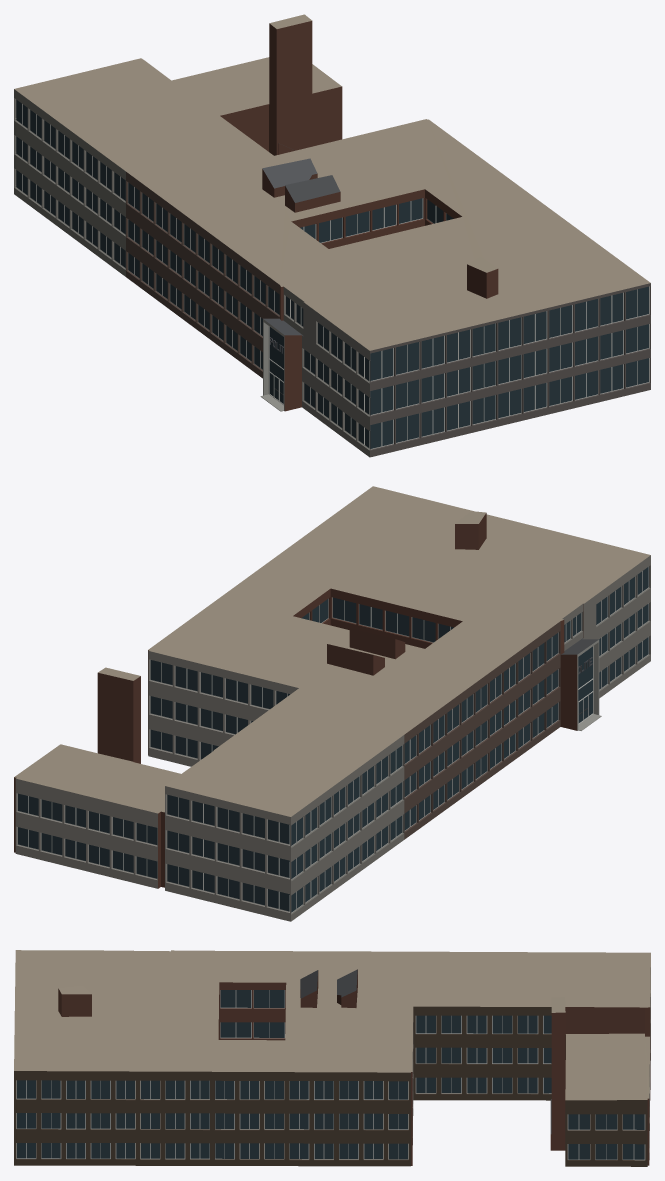
Rendered from recipe-large-politie-van-leijenberghlaan.glb.
3 views of the same model, one above another, from view 1: azimuth 30°, elevation 25°; view 2: azimuth 150°, elevation 25°; view 3: azimuth 270°, elevation 25° (orthographic). The views are drawn at different scales.
Visible parts, largest first — view 1: politie-van-leijenberghlaan; view 2: politie-van-leijenberghlaan; view 3: politie-van-leijenberghlaan.
Part boxes in pixels (x1,y1,x2,y2): politie-van-leijenberghlaan: (14, 14, 650, 457); politie-van-leijenberghlaan: (14, 486, 650, 921); politie-van-leijenberghlaan: (14, 950, 650, 1166).
Size of the model in its own units: 33.48 by 16.47 by 68.85.
